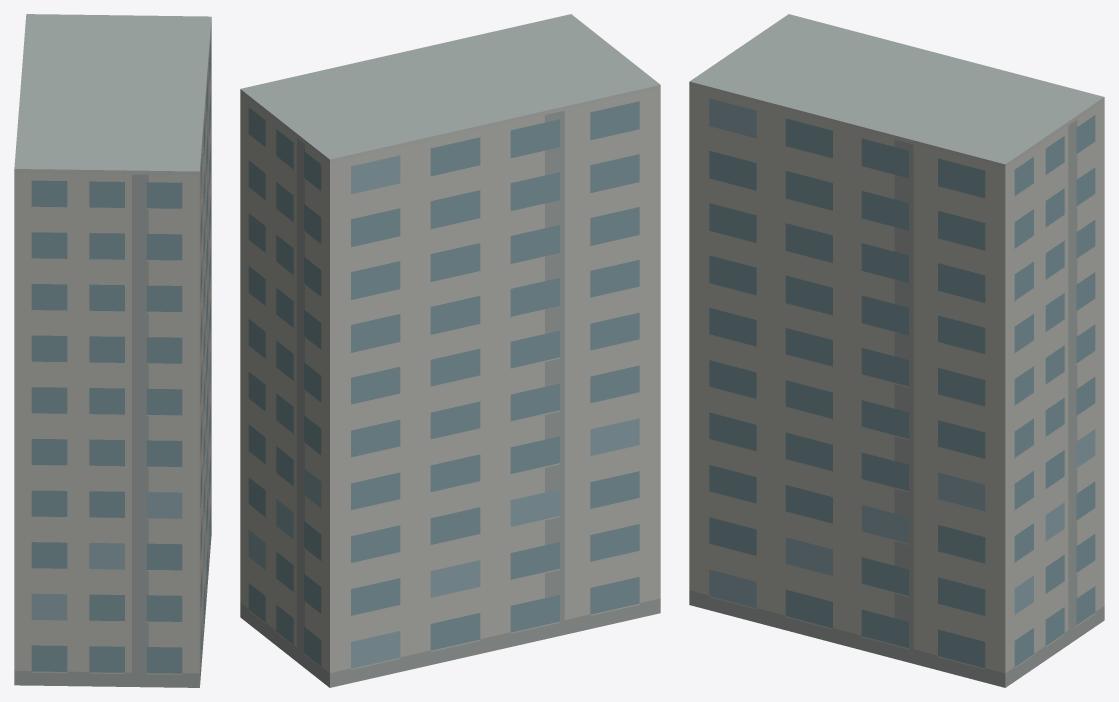
The model's file is residential-45a05502-9d1f-4de5-8184-2f17dfc4ac9d.glb.
3 renders of one model, left to right at view 1: azimuth 30°, elevation 25°; view 2: azimuth 150°, elevation 25°; view 3: azimuth 270°, elevation 25°, orthographic. The views are drawn at different scales.
Parts seen in each view (by area): view 1: residential-45a05502-9d1f-4de5-8184-2f17dfc4ac9d.tmp; view 2: residential-45a05502-9d1f-4de5-8184-2f17dfc4ac9d.tmp; view 3: residential-45a05502-9d1f-4de5-8184-2f17dfc4ac9d.tmp.
Part boxes in pixels (x1,y1,x2,y2): residential-45a05502-9d1f-4de5-8184-2f17dfc4ac9d.tmp: (14, 14, 211, 687); residential-45a05502-9d1f-4de5-8184-2f17dfc4ac9d.tmp: (240, 14, 660, 687); residential-45a05502-9d1f-4de5-8184-2f17dfc4ac9d.tmp: (689, 14, 1104, 687).
Size of the model in its own units: 19.11 by 31 by 22.29.
